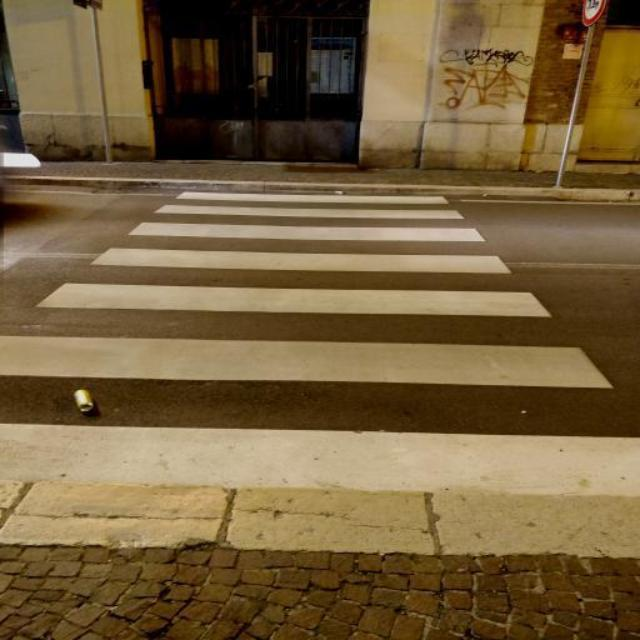sidewalk: (0, 187, 640, 559)
